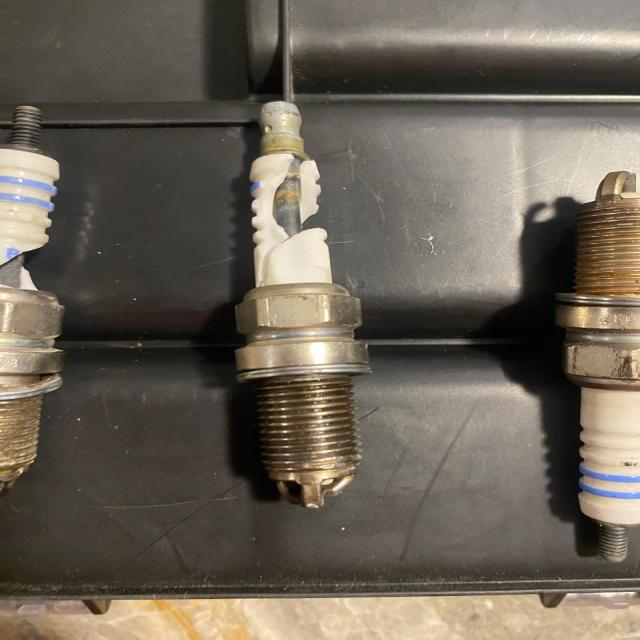damaged_spark-plug: (225, 85, 381, 508), (0, 73, 63, 500)
